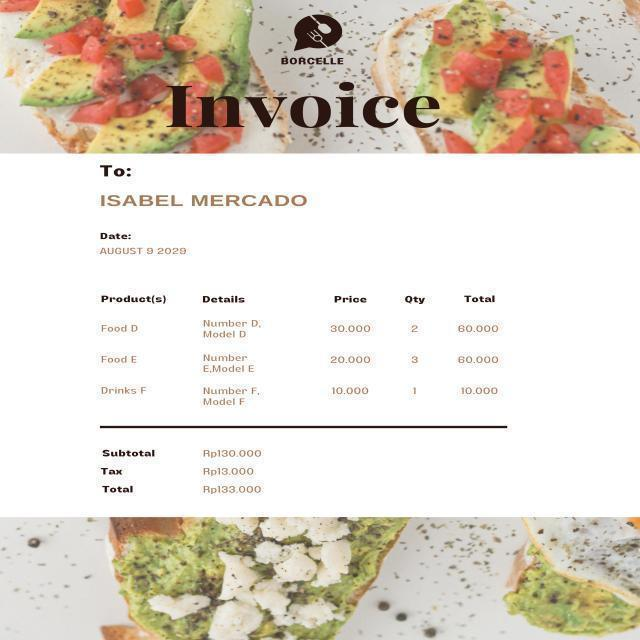paragraph: (159, 82, 454, 138), (73, 154, 342, 213), (94, 439, 287, 507), (271, 14, 372, 71), (84, 226, 190, 263)
table: (81, 274, 533, 410)
